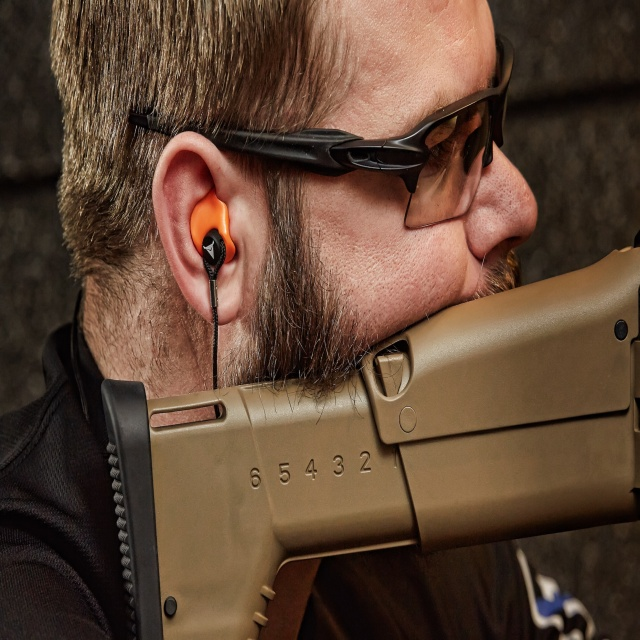Hearing_Protection: (190, 203, 237, 267)
